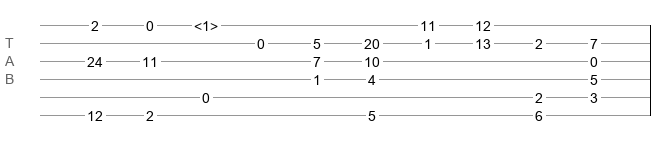0: (146, 18, 154, 28), (202, 90, 210, 100), (257, 36, 265, 46), (590, 54, 598, 64)
1: (313, 72, 321, 82), (424, 36, 432, 46)
10: (364, 54, 380, 64)
11: (142, 54, 158, 64), (420, 18, 436, 28)
12: (87, 108, 103, 118), (475, 18, 491, 28)
13: (475, 36, 491, 46)
2: (91, 18, 99, 28), (146, 108, 154, 118), (535, 90, 543, 100), (535, 36, 543, 46)
20: (364, 36, 380, 46)
24: (87, 54, 103, 64)
3: (590, 90, 598, 100)
4: (368, 72, 376, 82)
5: (313, 36, 321, 46), (368, 108, 376, 118), (590, 72, 598, 82)
6: (535, 108, 543, 118)
7: (313, 54, 321, 64), (590, 36, 598, 46)
harmonic: (194, 18, 218, 28)
